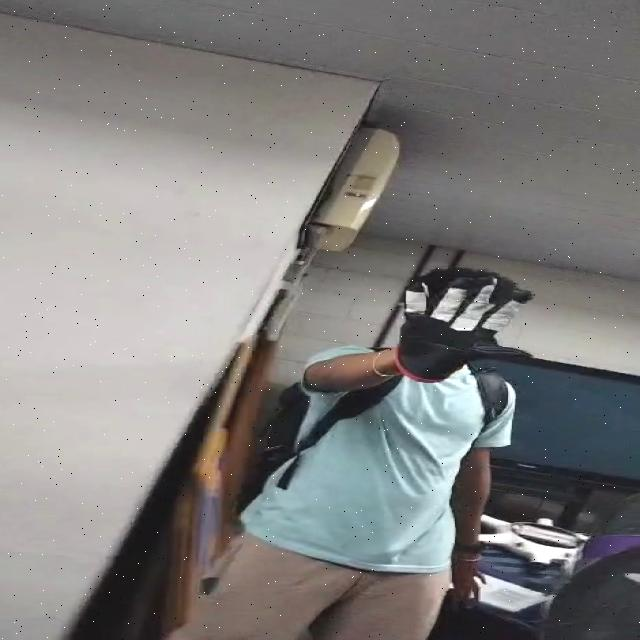Gloves: (386, 271, 528, 386)
